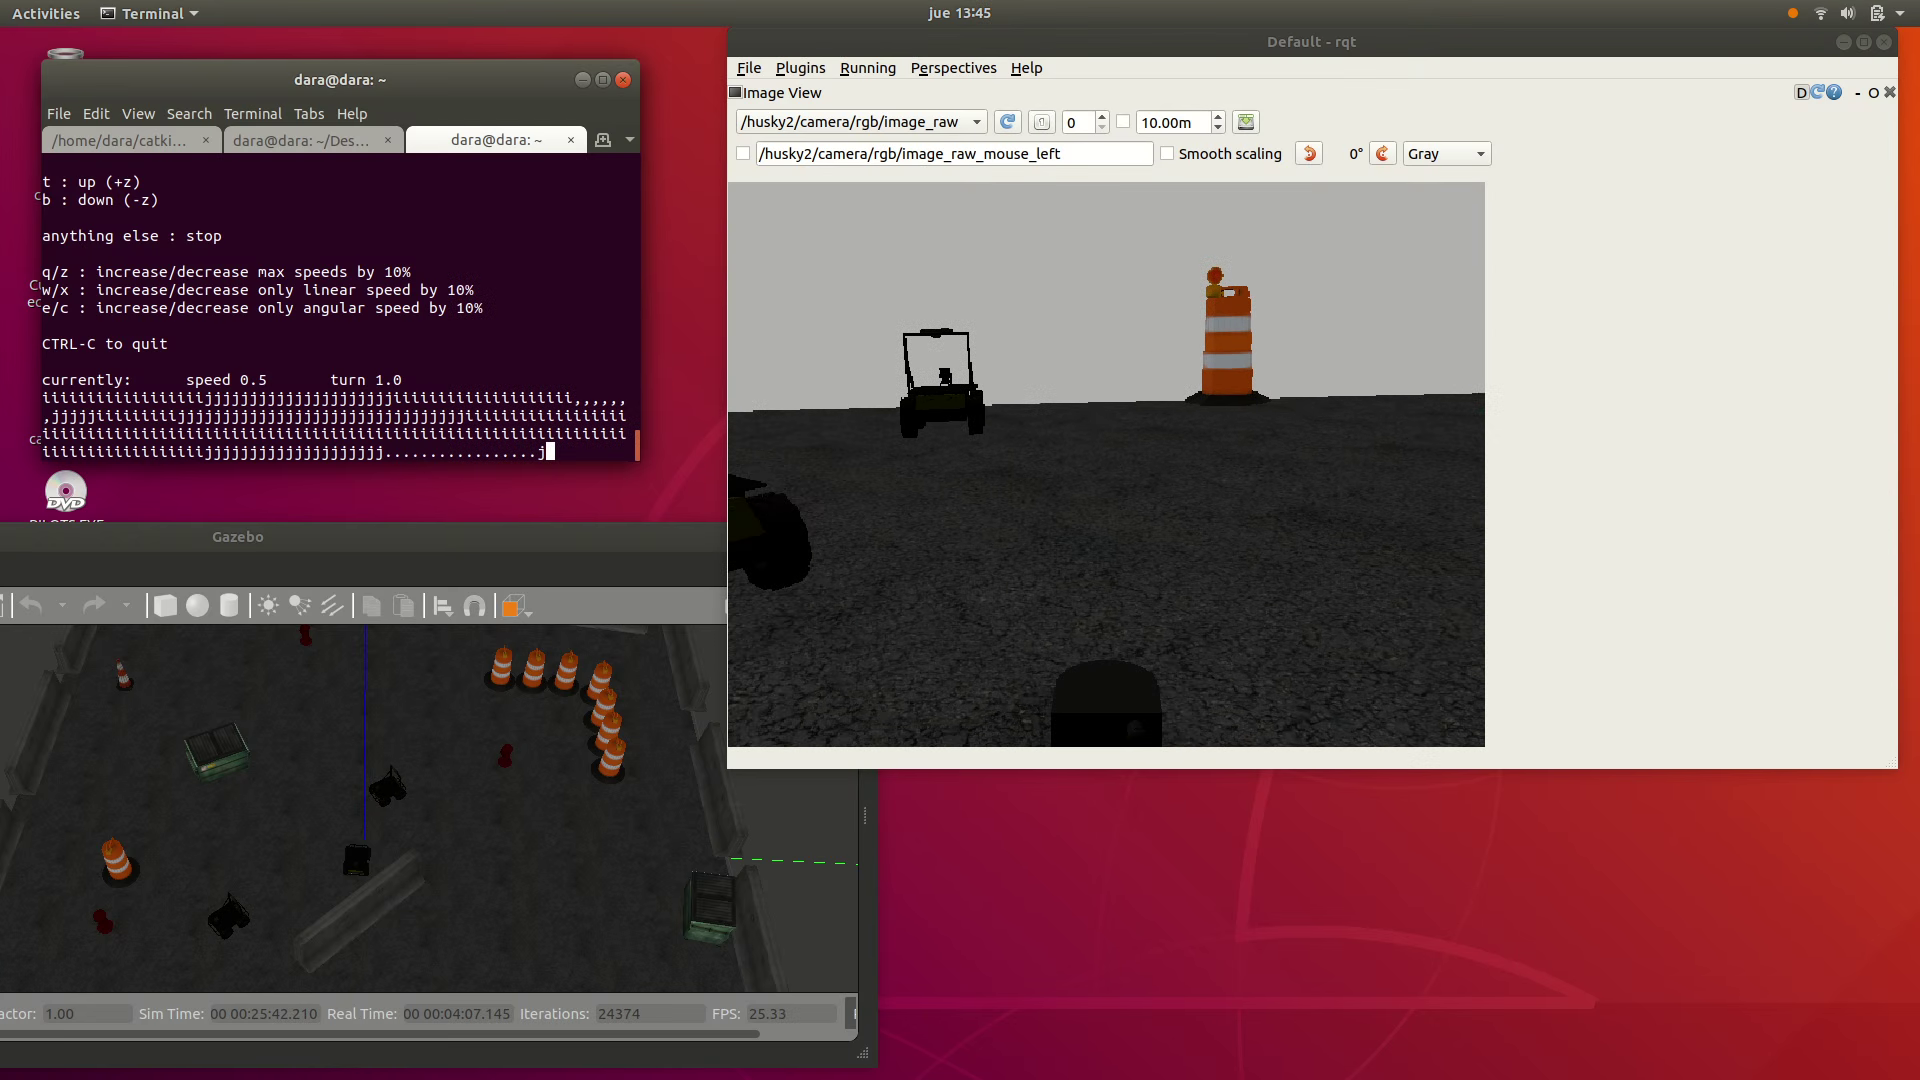husky: (901, 383, 984, 437), (208, 901, 250, 938), (369, 777, 405, 806), (343, 844, 371, 876)
